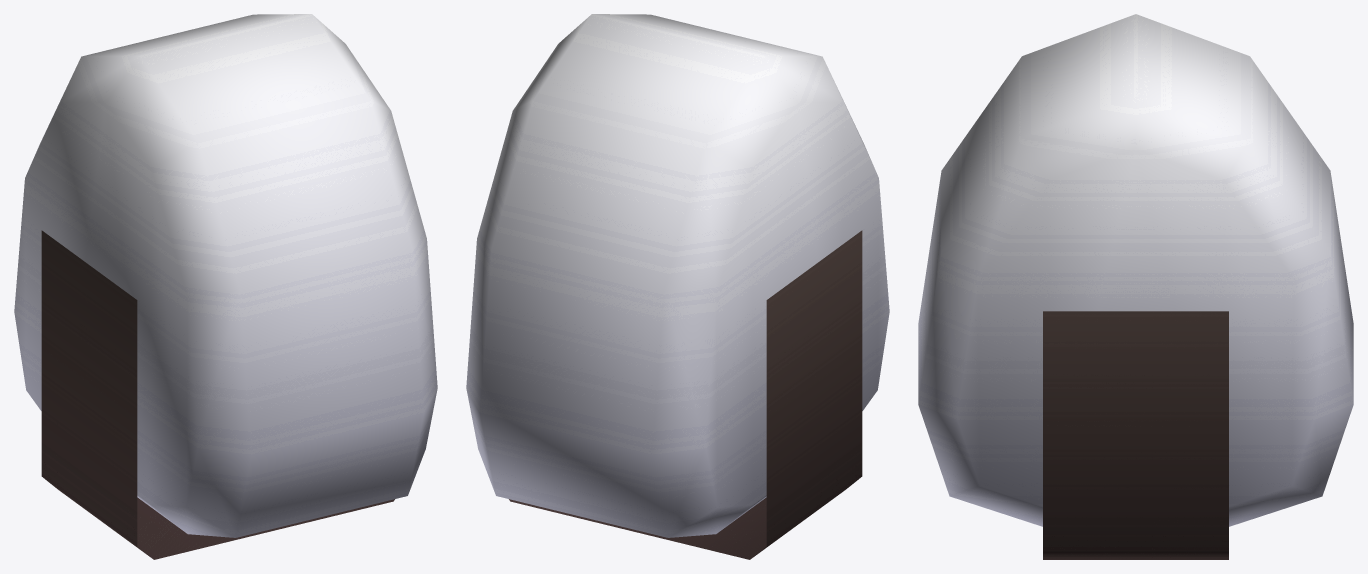
The model's file is food-rice-ball.glb.
3 views of the same model, side by side, from view 1: azimuth 30°, elevation 25°; view 2: azimuth 150°, elevation 25°; view 3: azimuth 270°, elevation 25° (orthographic). The views are drawn at different scales.
Visible parts, largest first — view 1: rice-ball; view 2: rice-ball; view 3: rice-ball.
Part boxes in pixels (left/top/right/bottom): rice-ball: left=14, top=14, right=437, bottom=559; rice-ball: left=466, top=14, right=889, bottom=559; rice-ball: left=918, top=14, right=1353, bottom=559.
Bounding box in the file's own units: 0.0812 × 0.1309 × 0.1152.
1 material, 1 textured.
